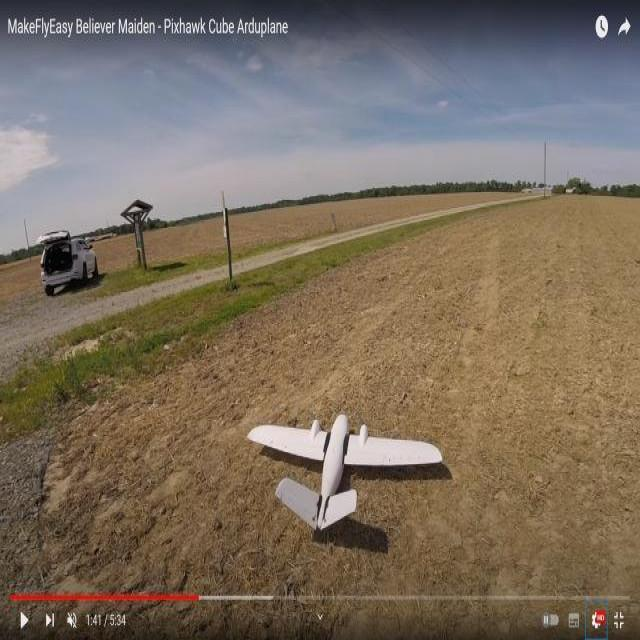iha: (233, 395, 450, 558)
